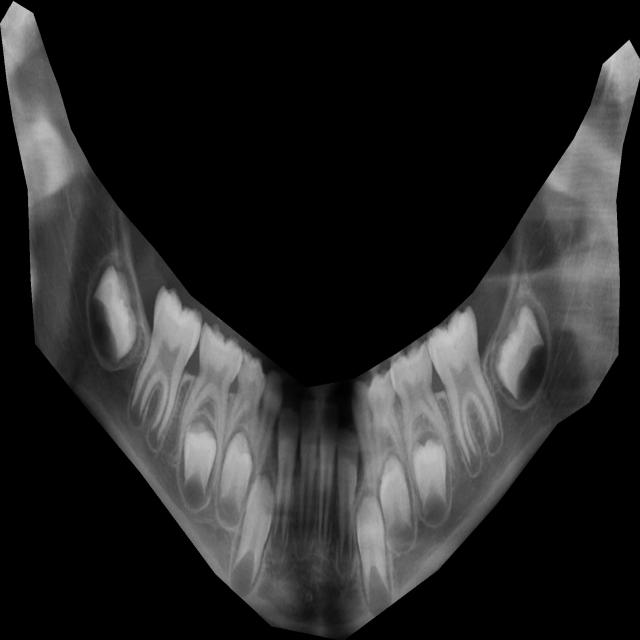mandibula: (0, 1, 640, 640)
